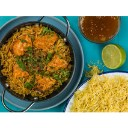briyani: (3, 28, 67, 91), (78, 73, 128, 111)
